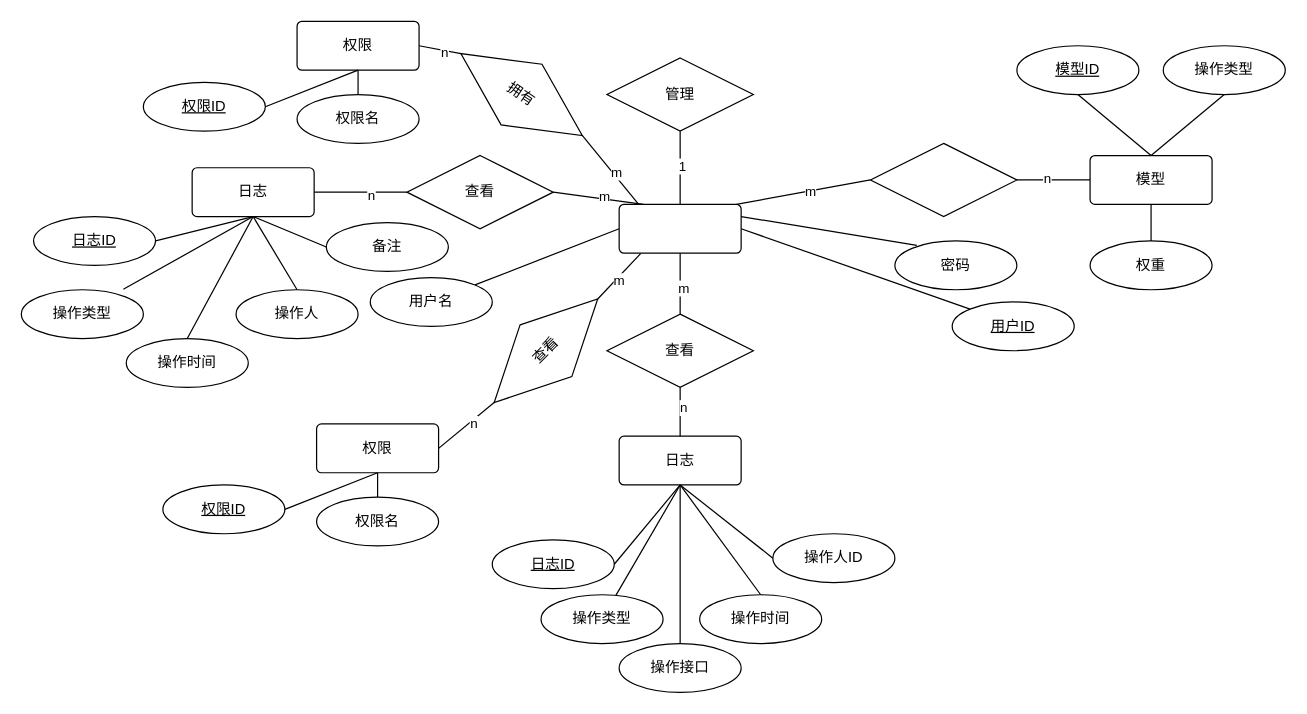
The diagram is 1307 pixels wide and 714 high, and some of its shapes have lost their labels. Each missing label, with the centre of its shape:
用户: point 679,228
训练: point 943,179
